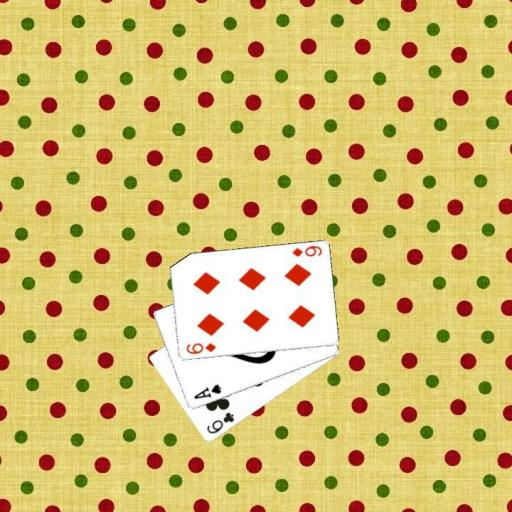6C: (204, 410, 236, 436)
6D: (183, 340, 217, 355), (289, 243, 323, 258)
AS: (191, 381, 223, 401)
